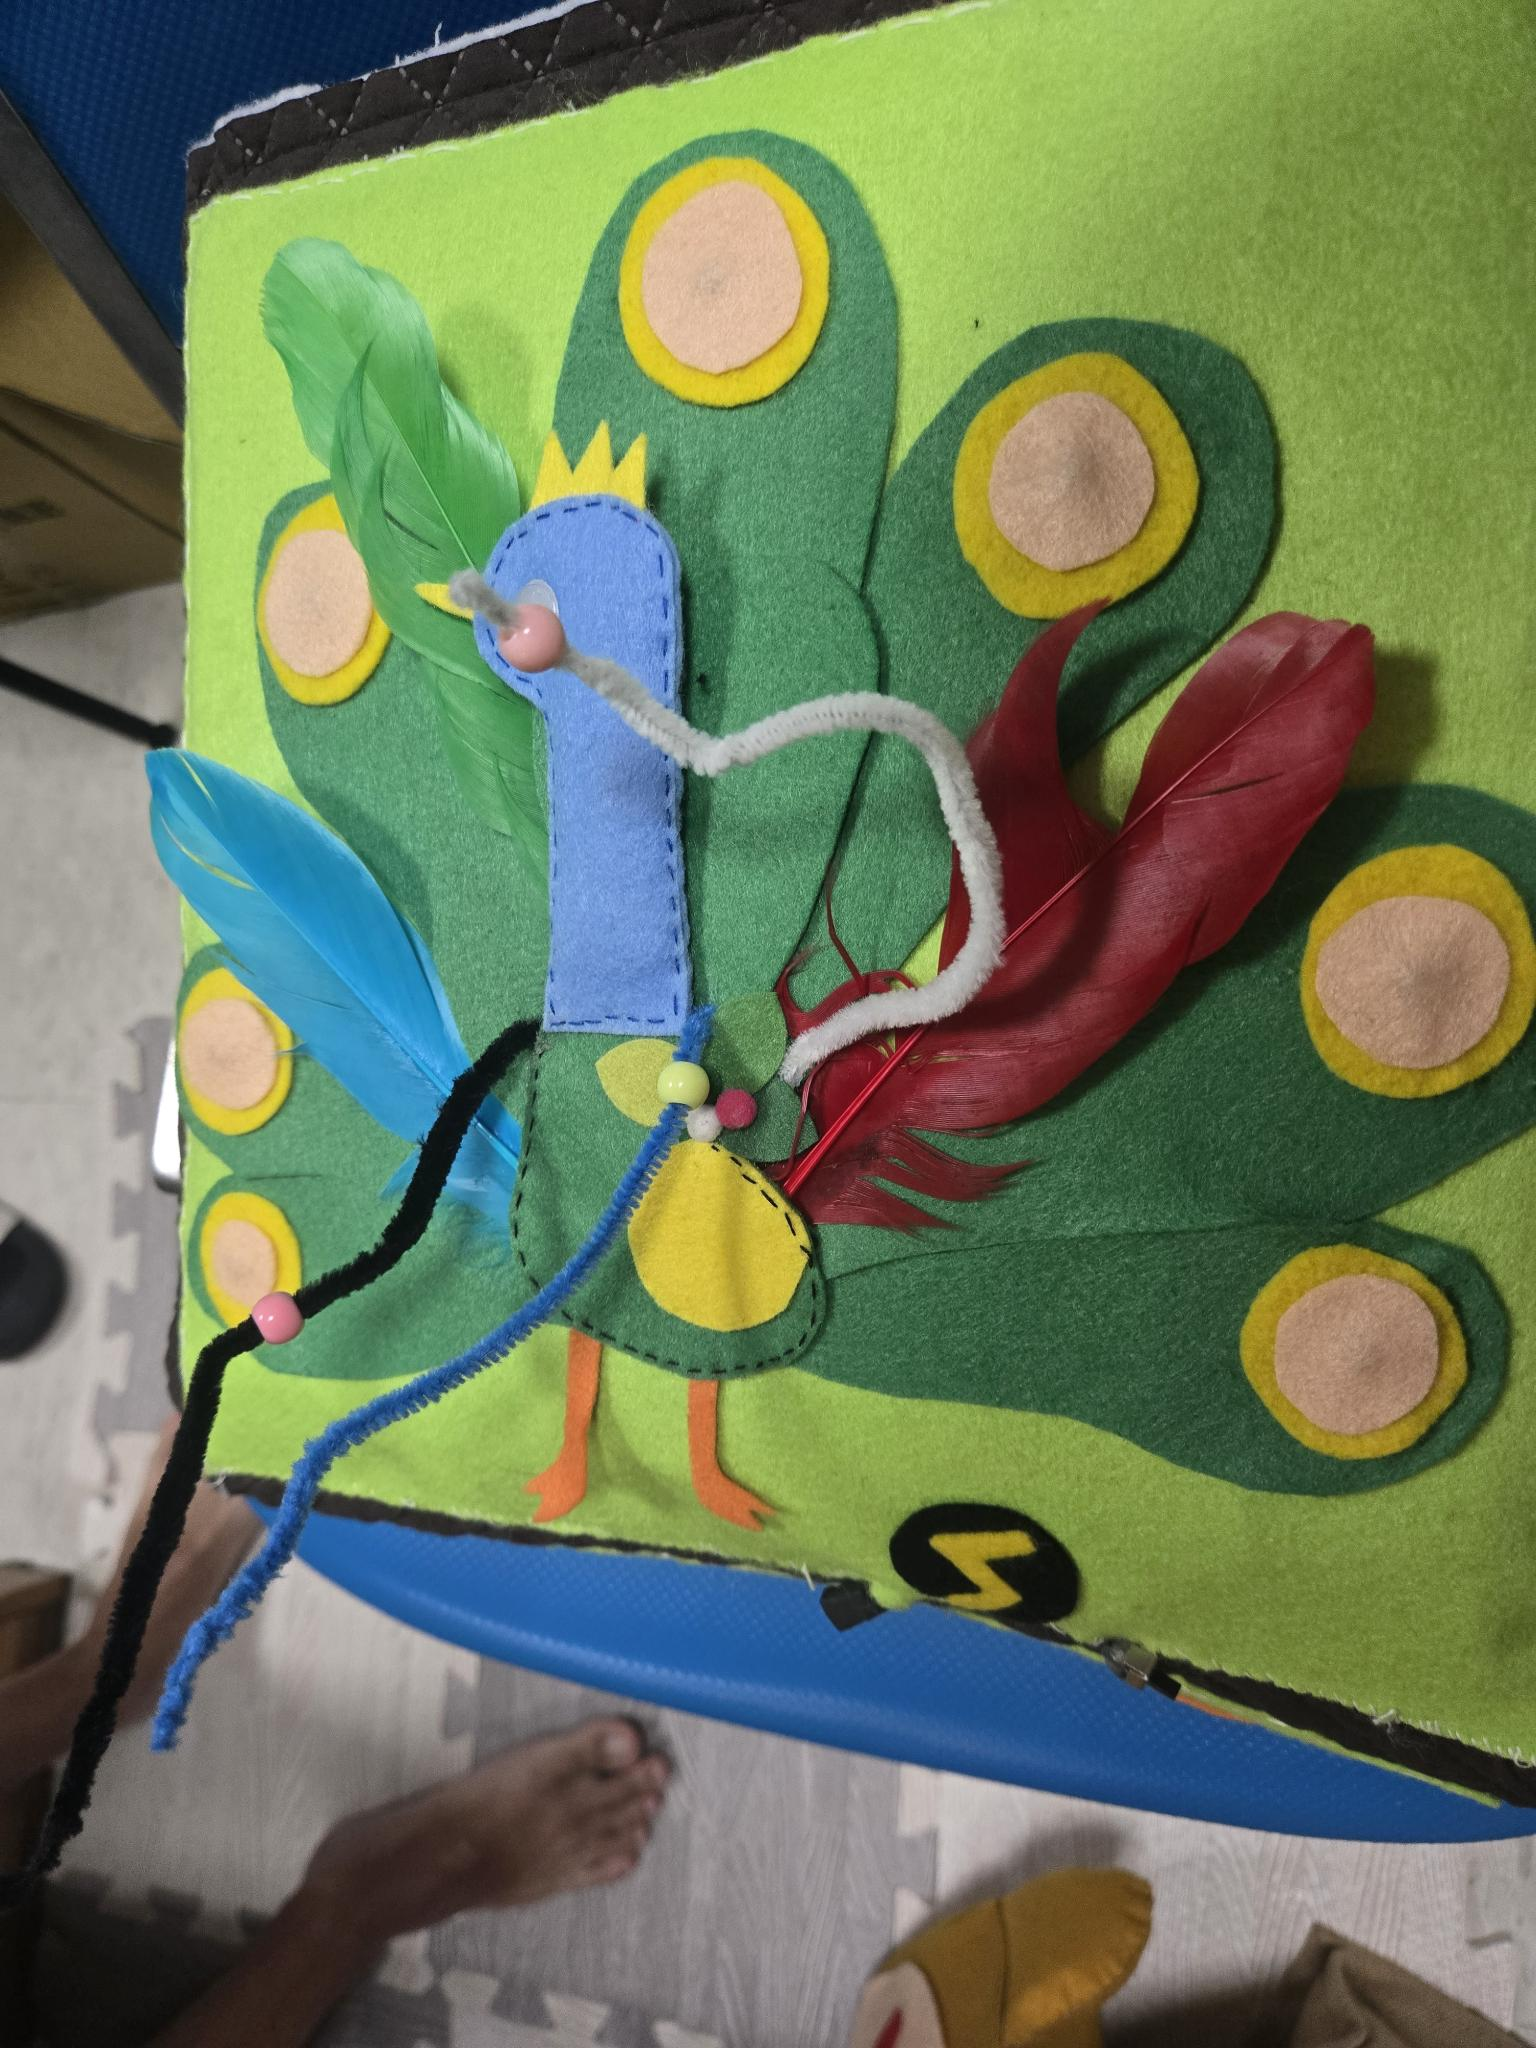bead: (487, 576, 587, 711), (645, 1040, 731, 1127), (245, 1280, 337, 1361)
